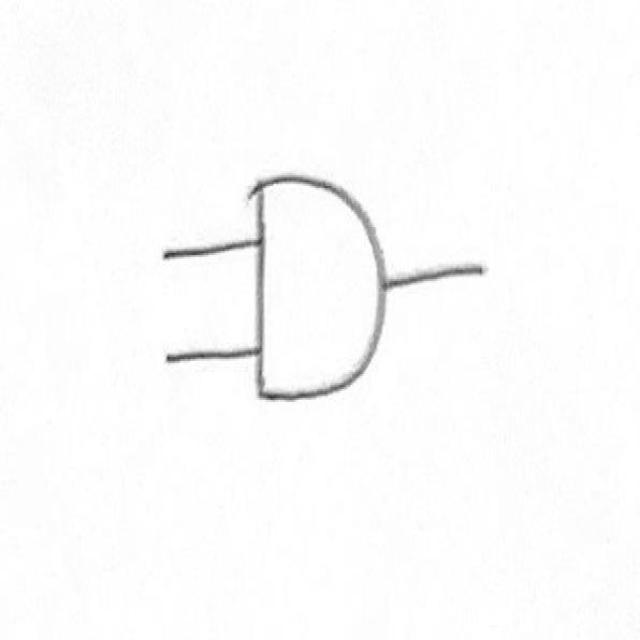AND: (243, 155, 415, 432)
